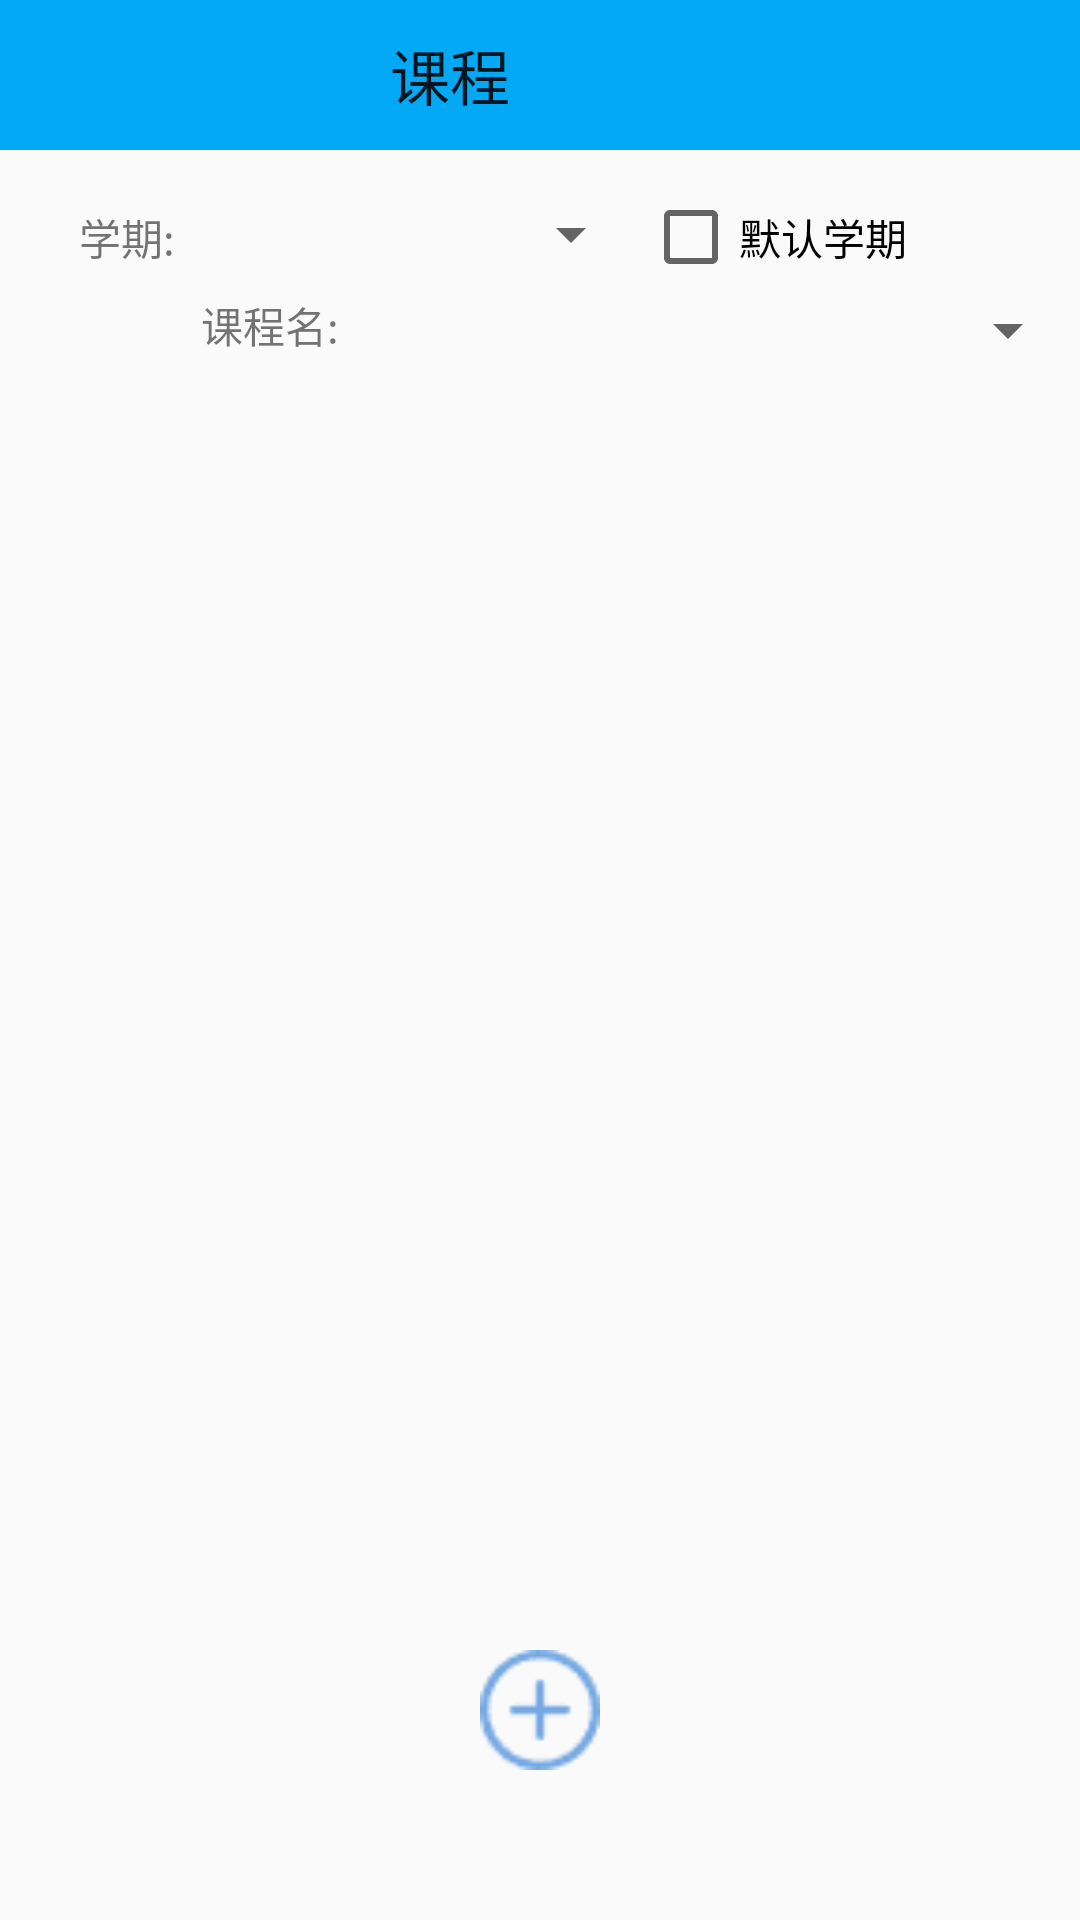

Icons on this 1080px x 1920px Android screen, each with its box as (x1, y1, x2, y2):
add: (480, 1650, 600, 1770)
